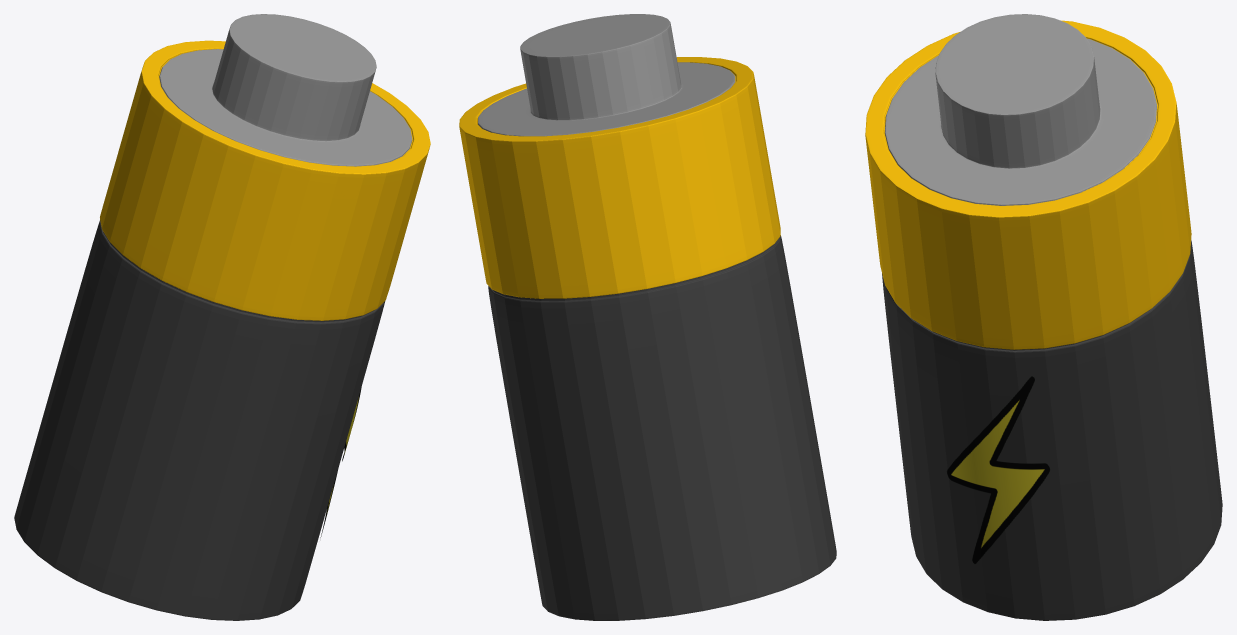
File: battery4.0.glb
3 views of the same model, side by side, from view 1: azimuth 30°, elevation 25°; view 2: azimuth 150°, elevation 25°; view 3: azimuth 270°, elevation 25° (orthographic). The views are drawn at different scales.
Parts seen in each view (by area): view 1: Cylinder; view 2: Cylinder; view 3: Cylinder.
Part boxes in pixels (x1,y1,x2,y2): Cylinder: (14, 14, 430, 620); Cylinder: (459, 14, 836, 620); Cylinder: (865, 14, 1222, 620).
Size of the model in its own units: 2.48 by 3.64 by 2.06.
Materials: 4 (1 with a texture image).
